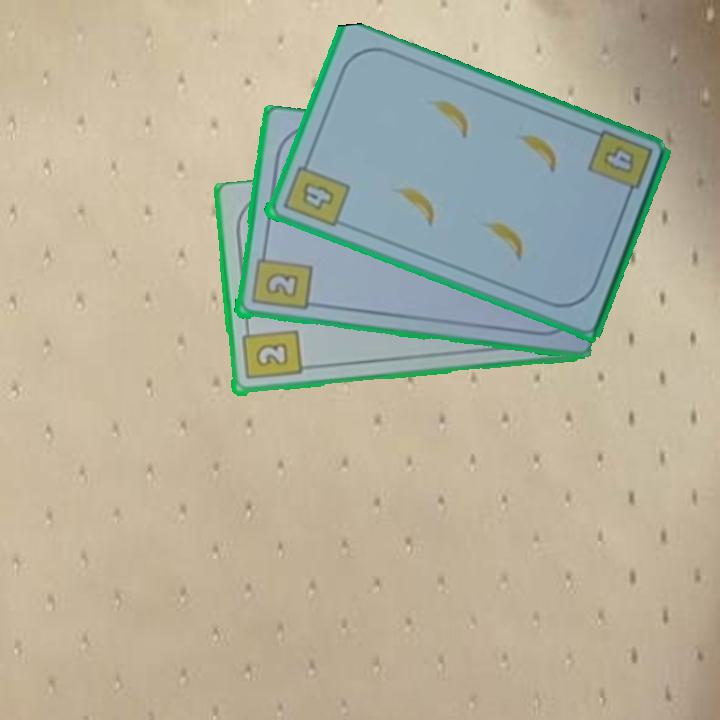2b: (247, 246, 314, 314), (238, 322, 303, 383)
4b: (278, 154, 352, 230), (584, 127, 655, 205)
